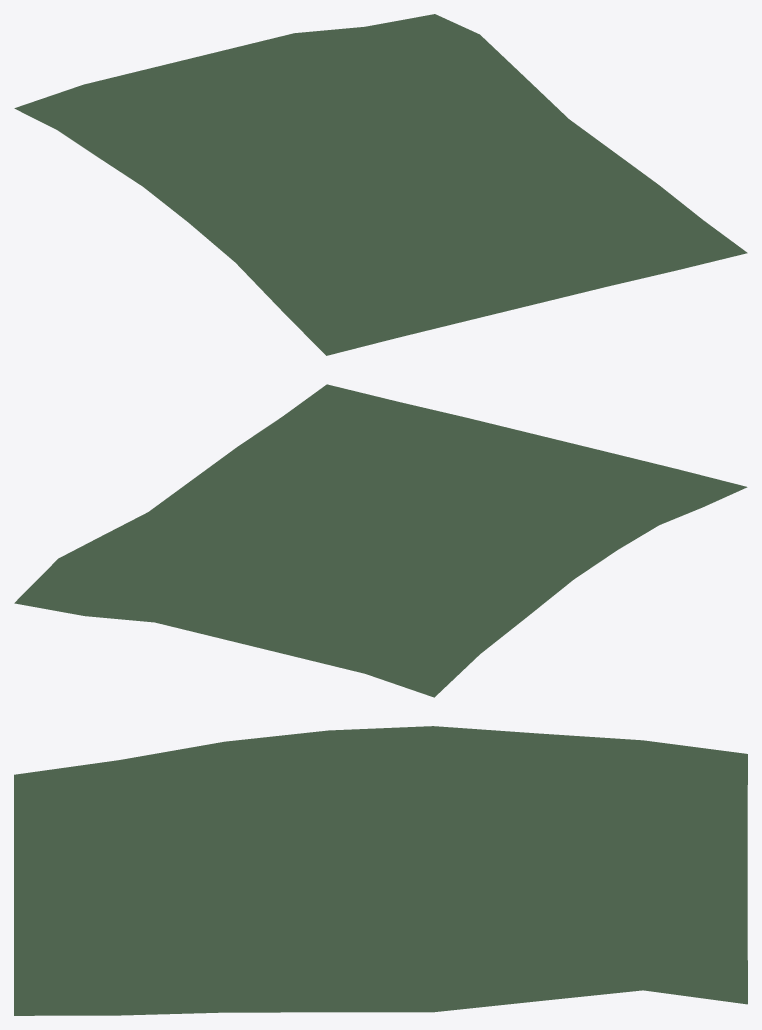
The model's file is ASSET_SOL.fbx.
3 views of the same model, one above another, from view 1: azimuth 30°, elevation 25°; view 2: azimuth 150°, elevation 25°; view 3: azimuth 270°, elevation 25° (orthographic). The views are drawn at different scales.
Parts seen in each view (by area): view 1: ASSET_SOL; view 2: ASSET_SOL; view 3: ASSET_SOL.
Boxes of the visible parts, x1,y1,x2,y2 form: ASSET_SOL: (14,14,747,355); ASSET_SOL: (14,384,747,697); ASSET_SOL: (14,726,747,1015).
Size of the model in its own units: 3404 by 398 by 4329.
